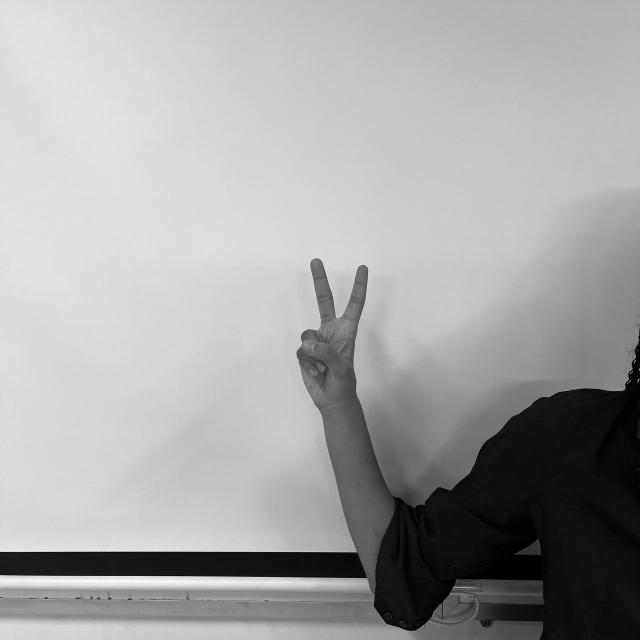Letra V: (293, 253, 372, 410)
